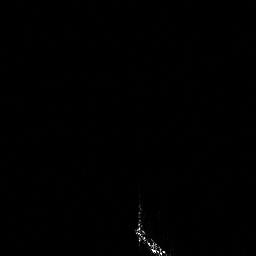ship: (131, 201, 170, 256)
